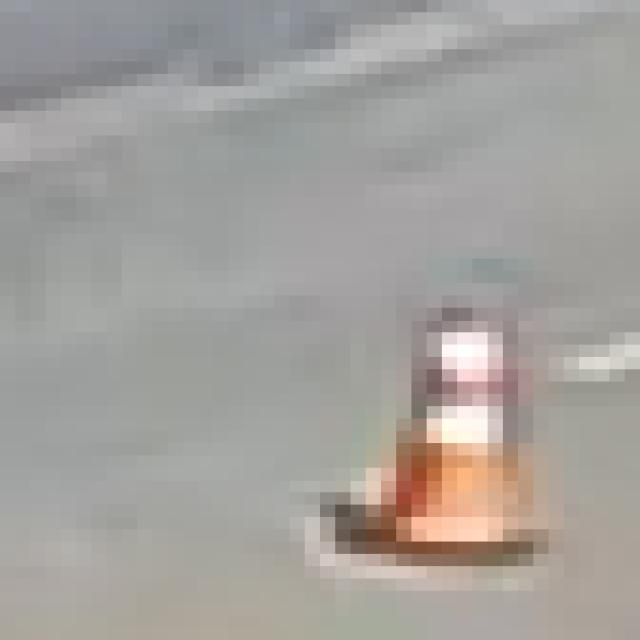small_cone: (320, 258, 564, 603)
